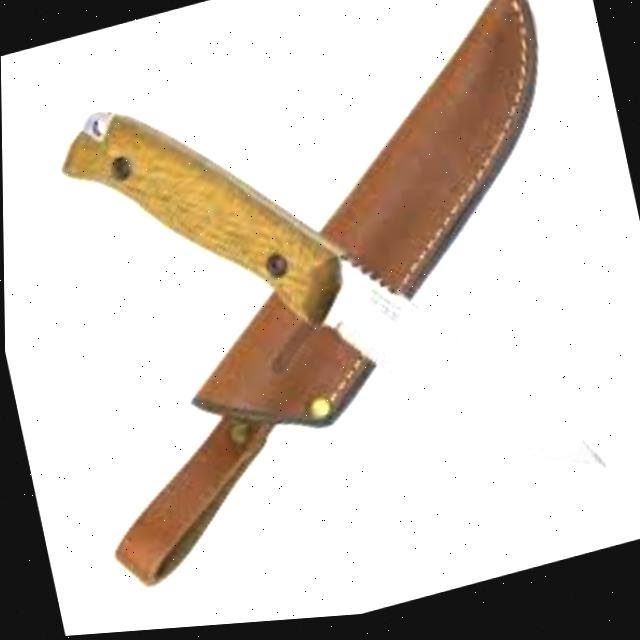knife: (20, 0, 626, 606)
